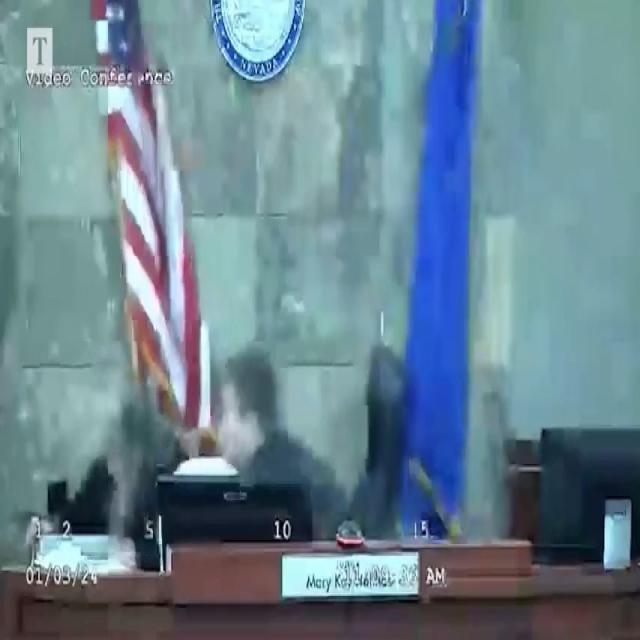fight: (70, 352, 371, 548)
